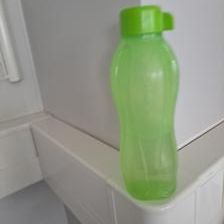bottle: (108, 1, 181, 207)
